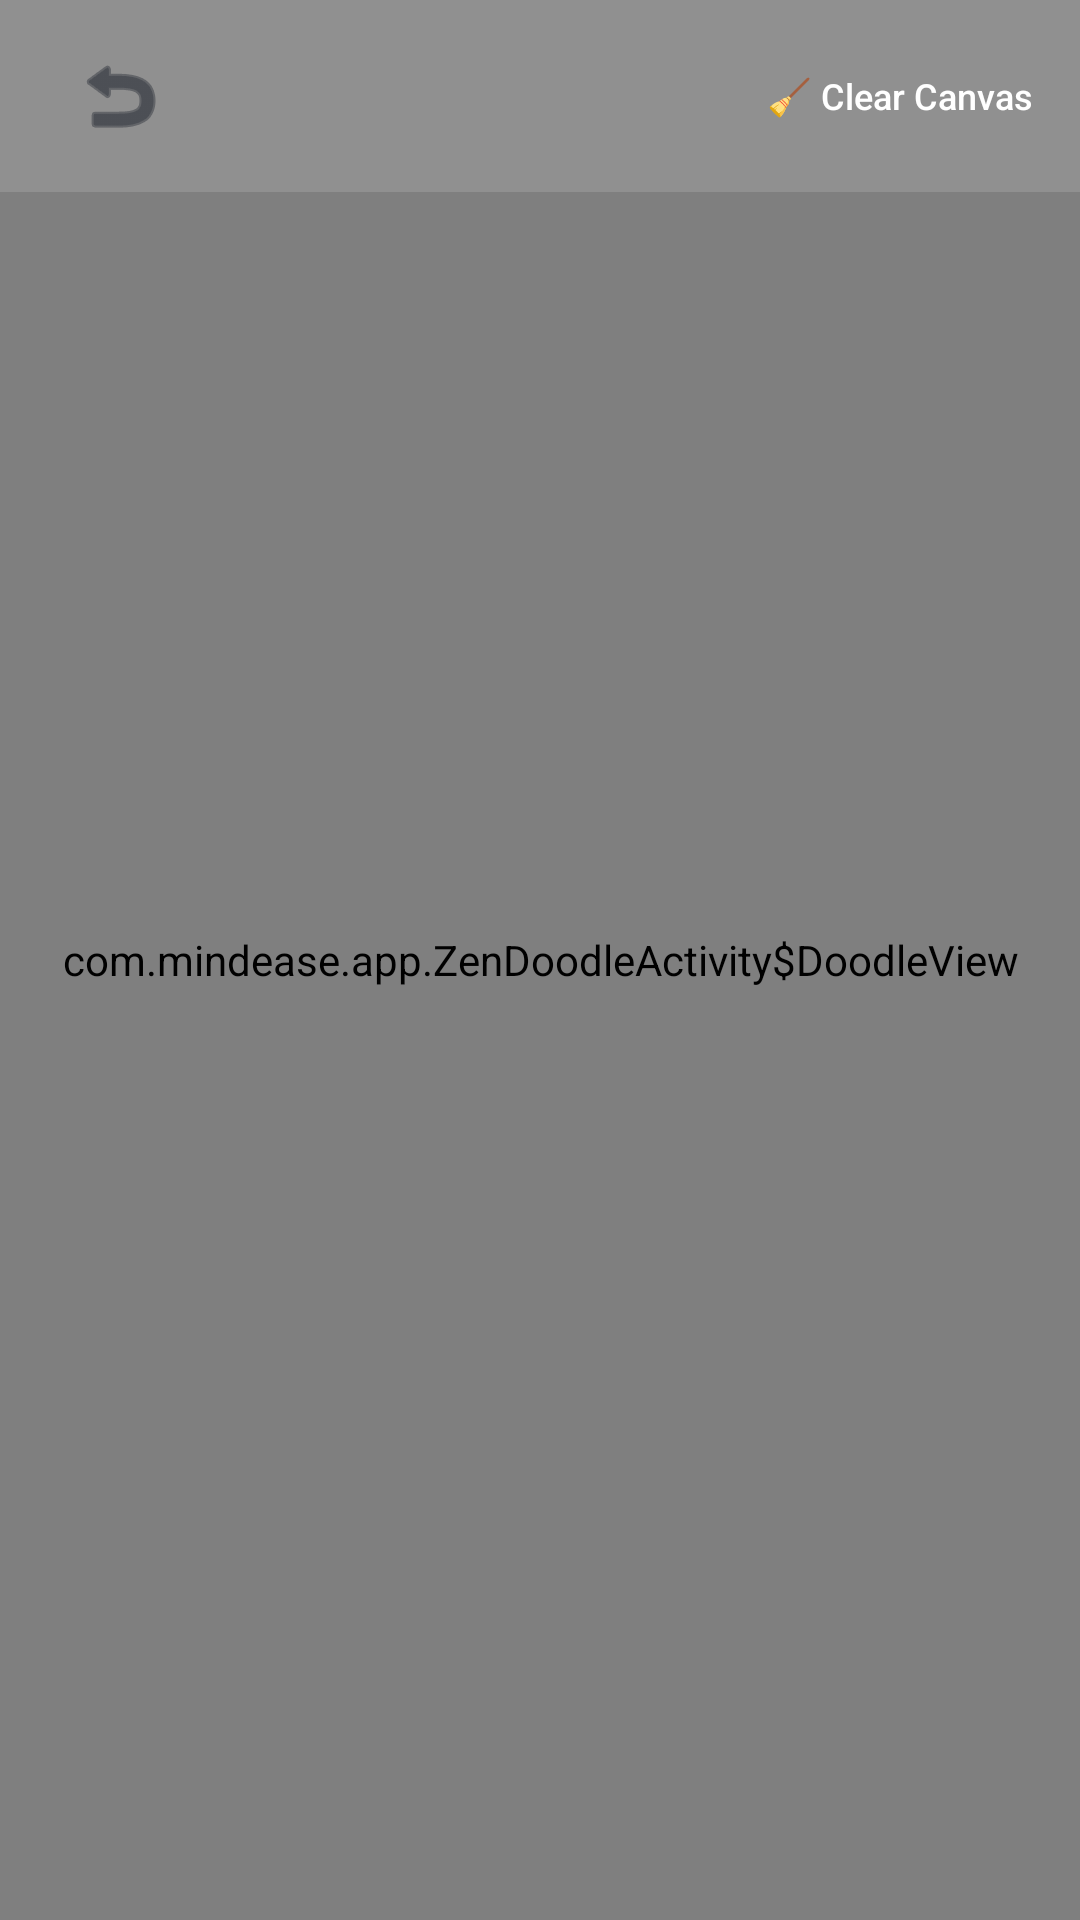

Icon bounding boxes for this 1080×1920 phone screenshot, format [left=x1, top=y1, right=x2, bottom=y2]:
Back: [left=87, top=66, right=155, bottom=128]
